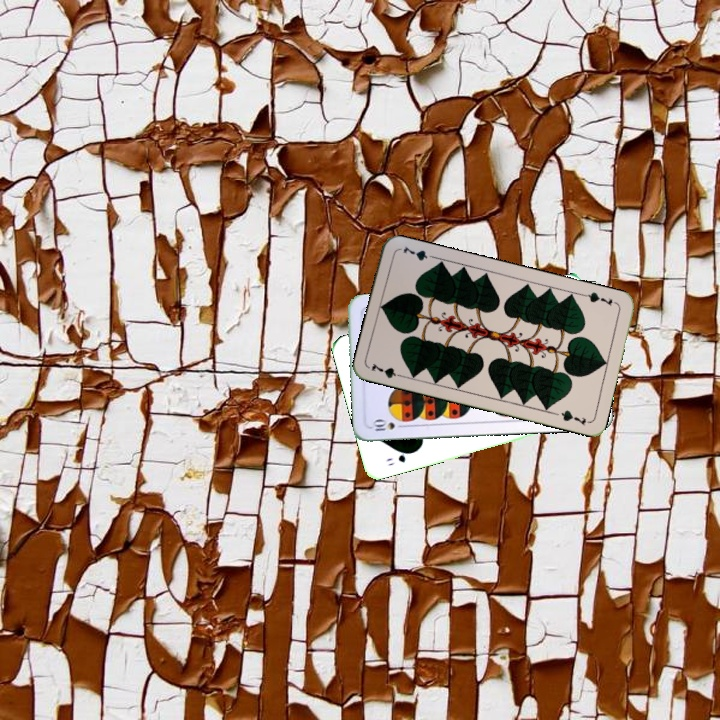G7: (367, 359, 407, 381), (579, 288, 620, 308)
GO: (382, 448, 417, 468)
S10: (367, 417, 408, 433)
